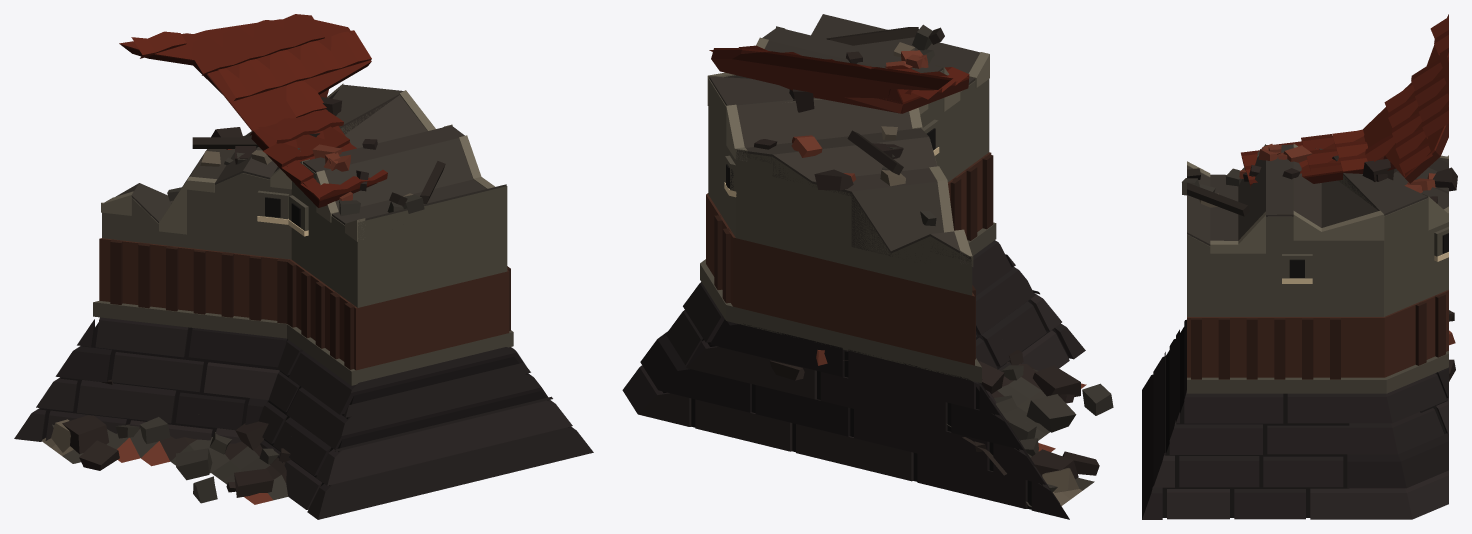
The model's file is VerJoint08a.glb.
The picture shows the model from 3 angles, left to right: view 1: azimuth 30°, elevation 25°; view 2: azimuth 150°, elevation 25°; view 3: azimuth 270°, elevation 25°; orthographic projection. The views are drawn at different scales.
Visible parts, largest first — view 1: VerJoint08a_stone; view 2: VerJoint08a_stone; view 3: VerJoint08a_stone.
Part boxes in pixels (box(x1,y1,x2,y2)): VerJoint08a_stone: box(14, 14, 593, 519); VerJoint08a_stone: box(622, 14, 1113, 519); VerJoint08a_stone: box(1142, 14, 1457, 519).
Size of the model in its own units: 6.75 by 5.72 by 4.55.
